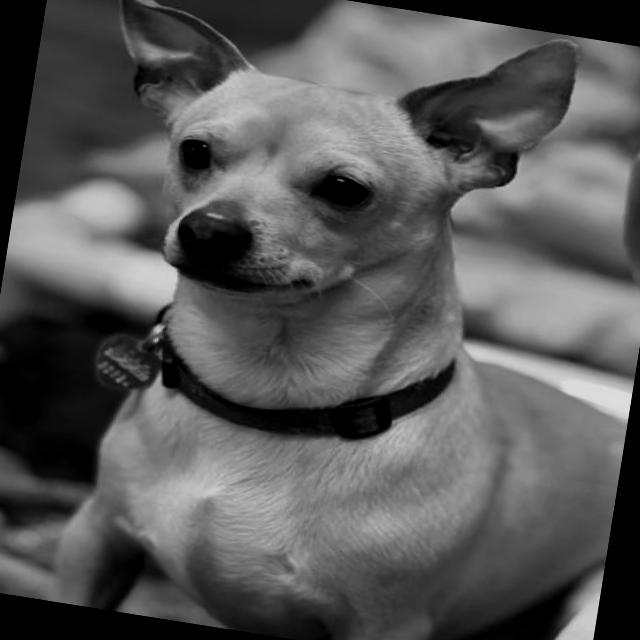chihuahua_dog: (47, 0, 600, 380)
